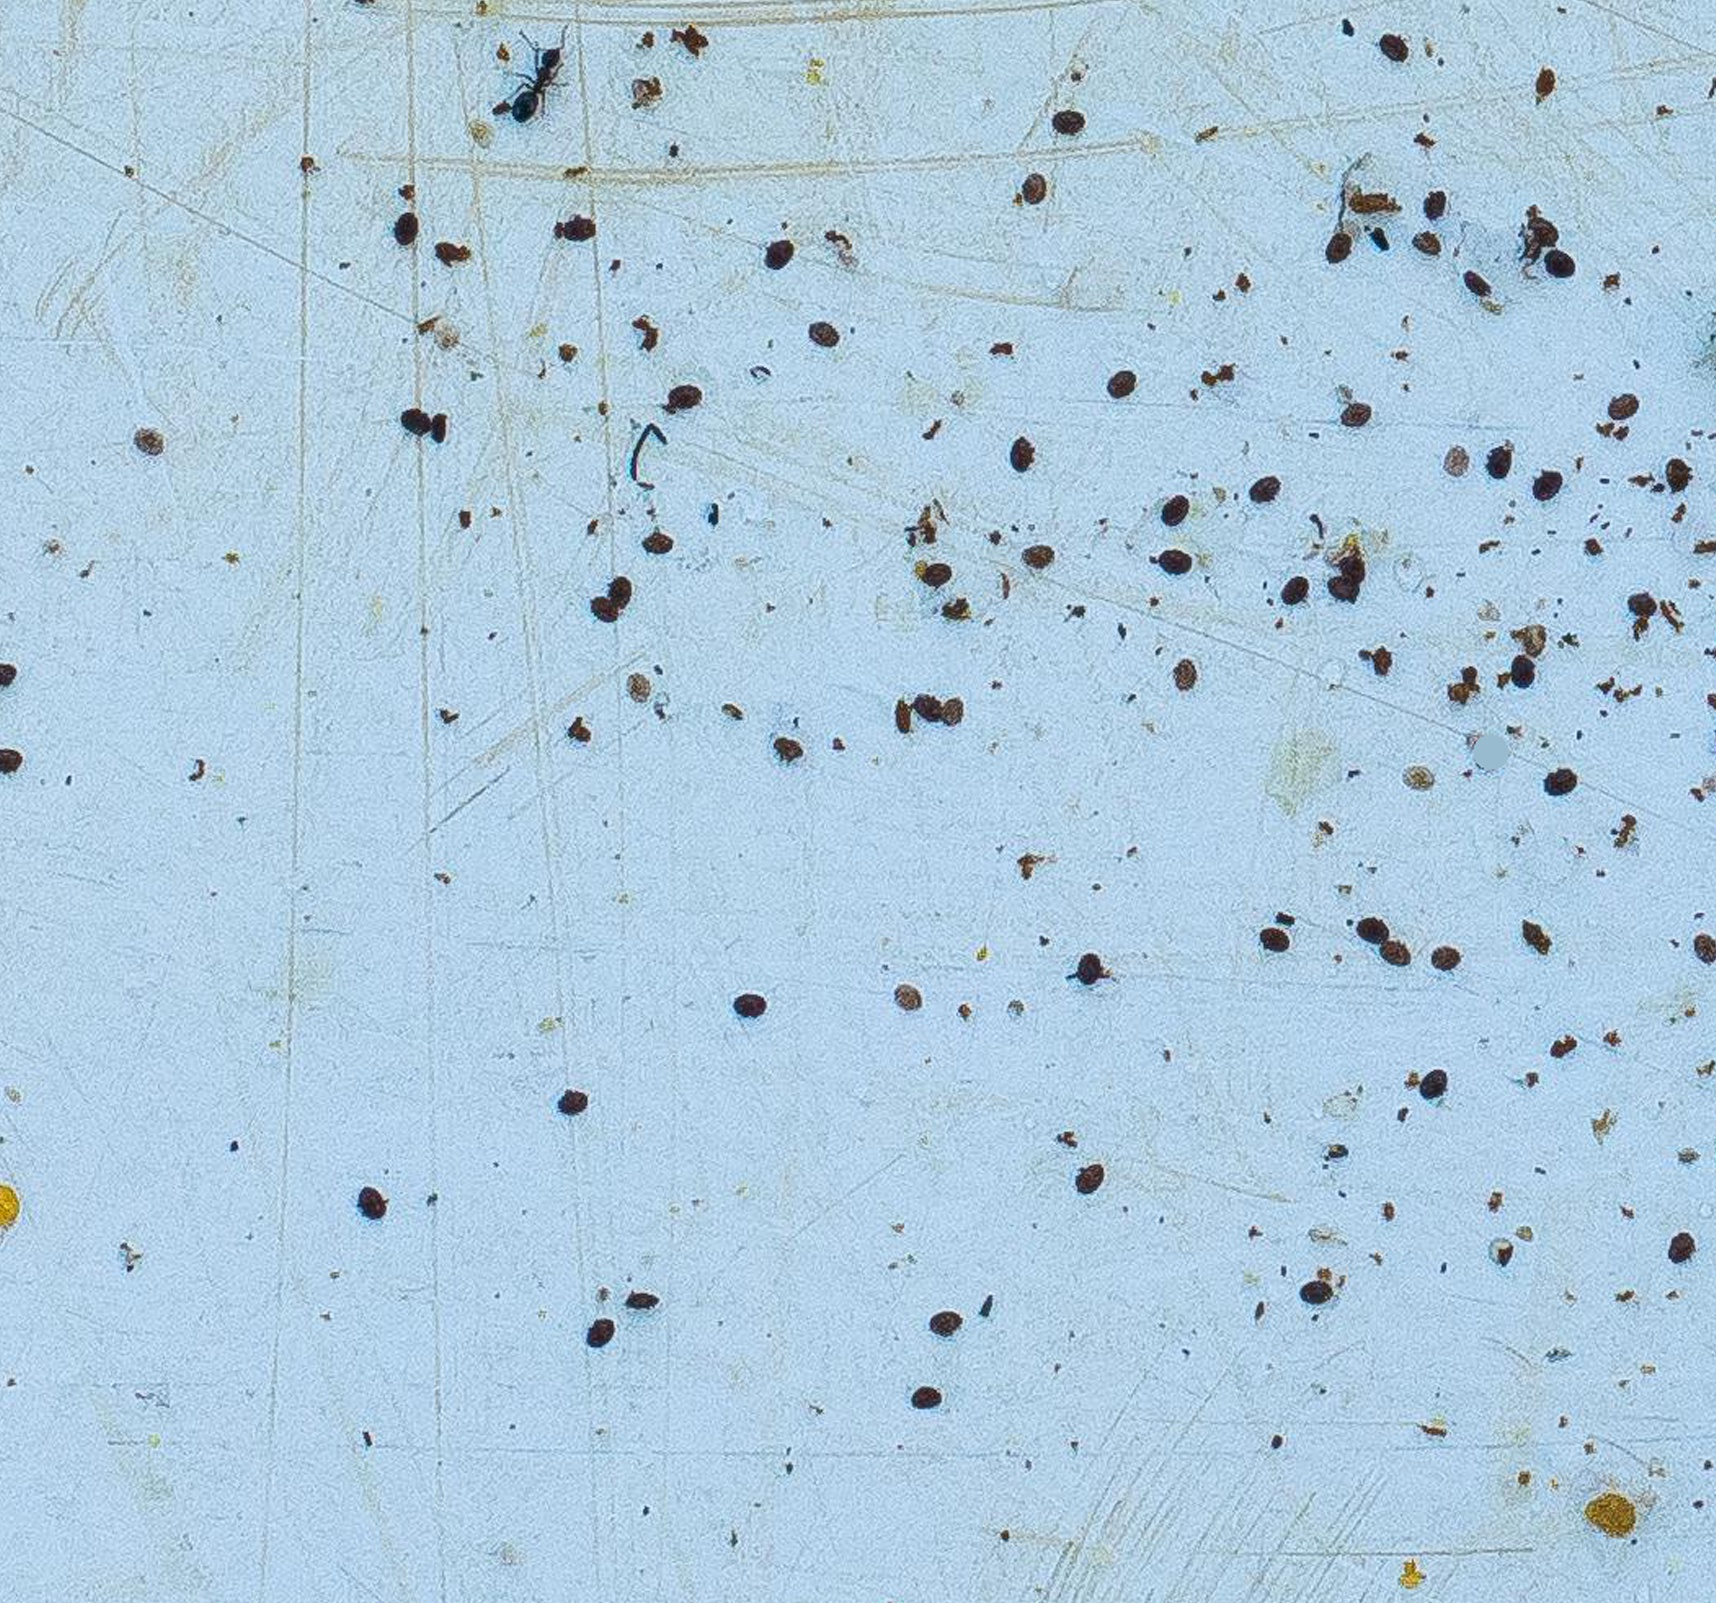Varroa: (556, 203, 603, 250), (1317, 221, 1363, 268), (1537, 237, 1583, 283), (600, 569, 646, 616), (577, 588, 624, 634), (907, 681, 954, 728), (1012, 530, 1059, 577), (1240, 469, 1287, 515), (1317, 569, 1363, 616), (1324, 544, 1371, 591), (1617, 583, 1663, 630), (1247, 916, 1294, 963), (1421, 939, 1467, 985), (347, 1177, 393, 1223), (1046, 93, 1092, 139), (383, 203, 429, 249), (392, 395, 437, 441), (752, 231, 798, 276), (795, 310, 842, 356), (661, 368, 708, 413), (1009, 167, 1056, 212), (1098, 356, 1143, 402), (1333, 389, 1379, 435), (1598, 381, 1645, 426), (1656, 449, 1701, 496), (616, 667, 661, 714), (1150, 485, 1196, 530), (1270, 569, 1315, 616), (1505, 646, 1550, 693), (545, 1082, 592, 1127), (1064, 948, 1110, 993), (1065, 1153, 1110, 1199), (1345, 913, 1391, 960), (1660, 1222, 1707, 1267), (1291, 1269, 1336, 1315), (902, 1372, 948, 1419), (997, 429, 1043, 475), (1409, 176, 1454, 221), (1473, 435, 1519, 481), (634, 523, 679, 568), (771, 728, 817, 773), (881, 695, 927, 740), (928, 692, 973, 737), (914, 554, 960, 600), (1154, 541, 1199, 586), (1163, 652, 1208, 698), (1392, 756, 1437, 801), (1526, 461, 1571, 506), (1540, 756, 1585, 801), (728, 982, 773, 1027), (883, 973, 928, 1018), (1376, 930, 1421, 975), (1409, 1065, 1454, 1110), (924, 1300, 969, 1345), (576, 1303, 621, 1348), (1366, 23, 1412, 66), (1403, 221, 1446, 267)
